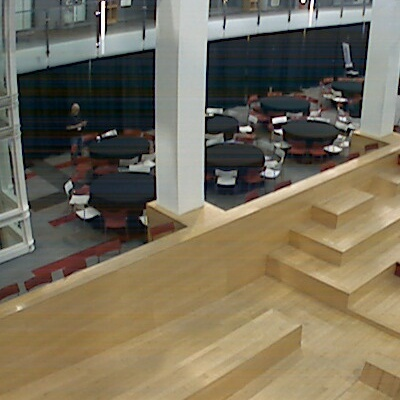head: (68, 101, 83, 117)
